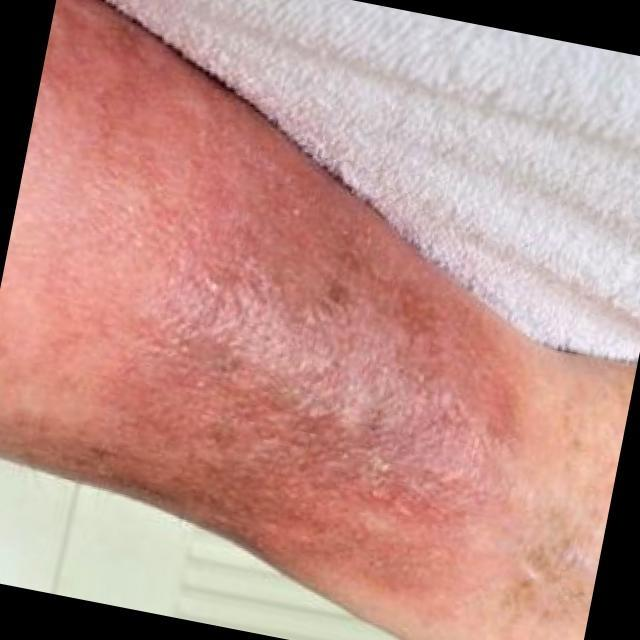Eczema: (48, 35, 487, 550)
